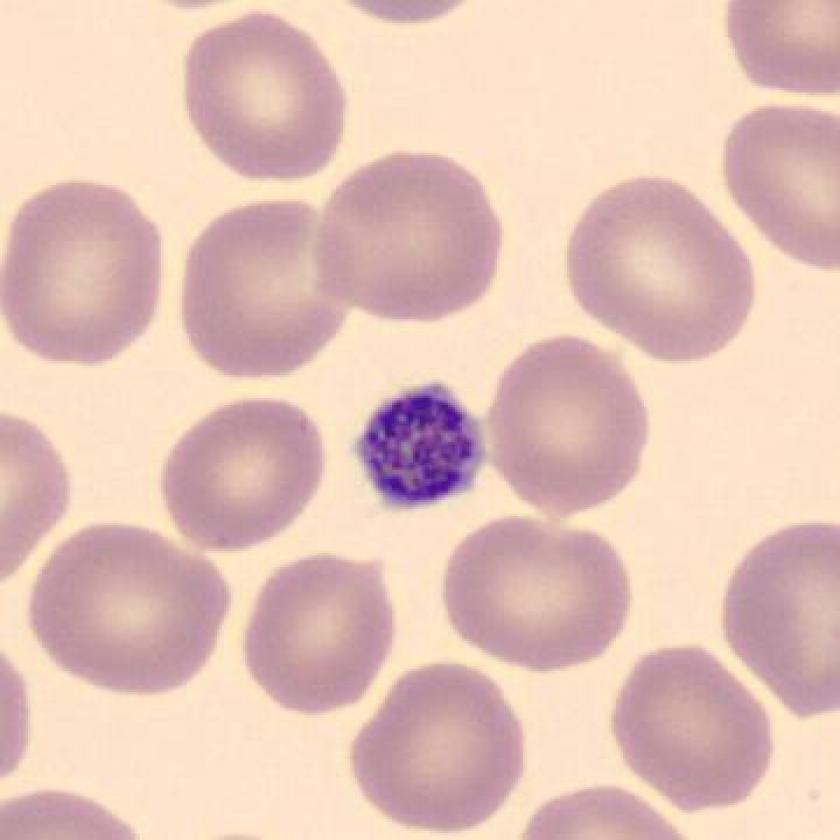platelets: (349, 381, 493, 520)
